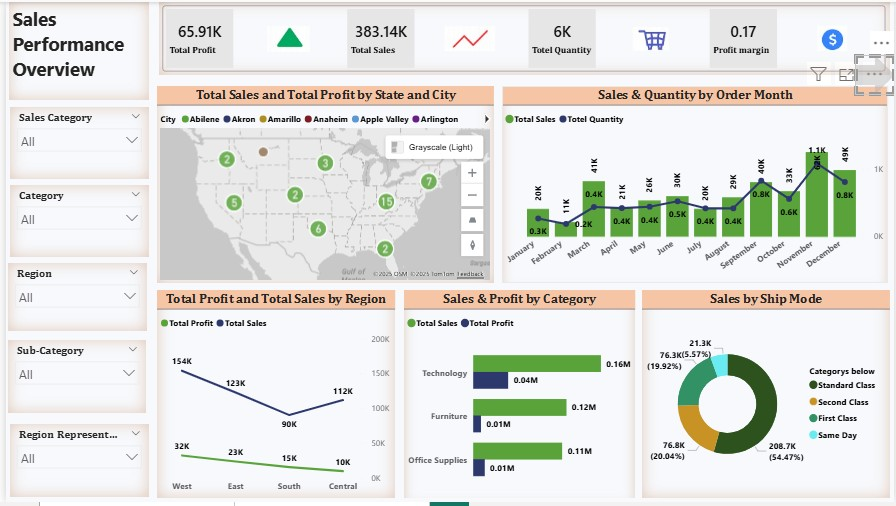

The page's visual inventory and layout, read from the dashboard file:
{"tool":"powerbi","page":{"name":"Sales Performance Overview","canvas":[1280,720],"ordinal":0},"visuals":[{"type":"lineStackedColumnComboChart","title":"Sales & Quantity by Order Month","fields":{"Y":["Sales.Total Sales"],"Y2":["Sales.Totel Quantity"],"Category":["Date Table.Date.Variation.Date Hierarchy.Month"]},"box":[714.2,121,555.8,283.7],"z":0},{"type":"donutChart","title":"Sales by Ship Mode","fields":{"Category":["Sales.Ship Mode"],"Y":["Sales.Total Sales"]},"box":[915.8,414.7,357.1,299.5],"z":1000},{"type":"clusteredBarChart","title":"Sales & Profit by Category","fields":{"Category":["Sales.Category"],"Y":["Sales.Total Sales","Sales.Total Profit"]},"box":[573.1,414.7,332.6,299.5],"z":2000},{"type":"azureMap","fields":{"Category":["Customer.State","Region.City"],"Series":["Customer.City"],"Size":["Sales.Total Sales"]},"box":[217.4,121,485.3,283.7],"z":3000},{"type":"lineChart","fields":{"Category":["Region.Region"],"Y2":["Sales.Total Profit","Sales.Total Sales"]},"box":[217.4,414.7,342.7,299.5],"z":4000},{"type":"slicer","fields":{"Values":["Region Representative.Person"]},"box":[5.9,607.3,200.5,105.4],"z":5000},{"type":"slicer","fields":{"Values":["Product.Category"]},"box":[5.9,263.4,200.5,103.9],"z":6000},{"type":"slicer","fields":{"Values":["Product.Sub-Category"]},"box":[2.9,487.3,199,105.4],"z":7000},{"type":"slicer","fields":{"Values":["Region.Region"]},"box":[2.9,376.1,200.5,98],"z":8000},{"type":"cardVisual","fields":{"Data":["Sales.Total Profit","Sales.Total Sales","Sales.Totel Quantity","Sales.Profit margin"]},"box":[220.3,0,1052.6,105.1],"z":9000},{"type":"textbox","box":[4.3,0,201.6,141.1],"z":10000},{"type":"slicer","fields":{"Values":["Sales.Sales Category"]},"box":[5.9,150.7,200.5,103.9],"z":11000},{"type":"shape","box":[1222.6,76.3,57.6,57.6],"z":12000}]}

Visuals, with their boxes in screenshot pixels (x1, y1, x2, y2), scaled from the page's 1280x720 canvas onto the 896x506 screenshot:
"Sales & Quantity by Order Month" lineStackedColumnComboChart: pyautogui.locateOnScreen(500, 85, 889, 284)
"Sales by Ship Mode" donutChart: pyautogui.locateOnScreen(641, 291, 891, 502)
"Sales & Profit by Category" clusteredBarChart: pyautogui.locateOnScreen(401, 291, 634, 502)
azureMap - Customer.State x Region.City: pyautogui.locateOnScreen(152, 85, 492, 284)
lineChart - Region.Region x Sales.Total Profit: pyautogui.locateOnScreen(152, 291, 392, 502)
slicer - Region Representative.Person: pyautogui.locateOnScreen(4, 427, 144, 501)
slicer - Product.Category: pyautogui.locateOnScreen(4, 185, 144, 258)
slicer - Product.Sub-Category: pyautogui.locateOnScreen(2, 342, 141, 417)
slicer - Region.Region: pyautogui.locateOnScreen(2, 264, 142, 333)
cardVisual - Sales.Total Profit x Sales.Total Sales: pyautogui.locateOnScreen(154, 0, 891, 74)
textbox: pyautogui.locateOnScreen(3, 0, 144, 99)
slicer - Sales.Sales Category: pyautogui.locateOnScreen(4, 106, 144, 179)
shape: pyautogui.locateOnScreen(856, 54, 895, 94)
